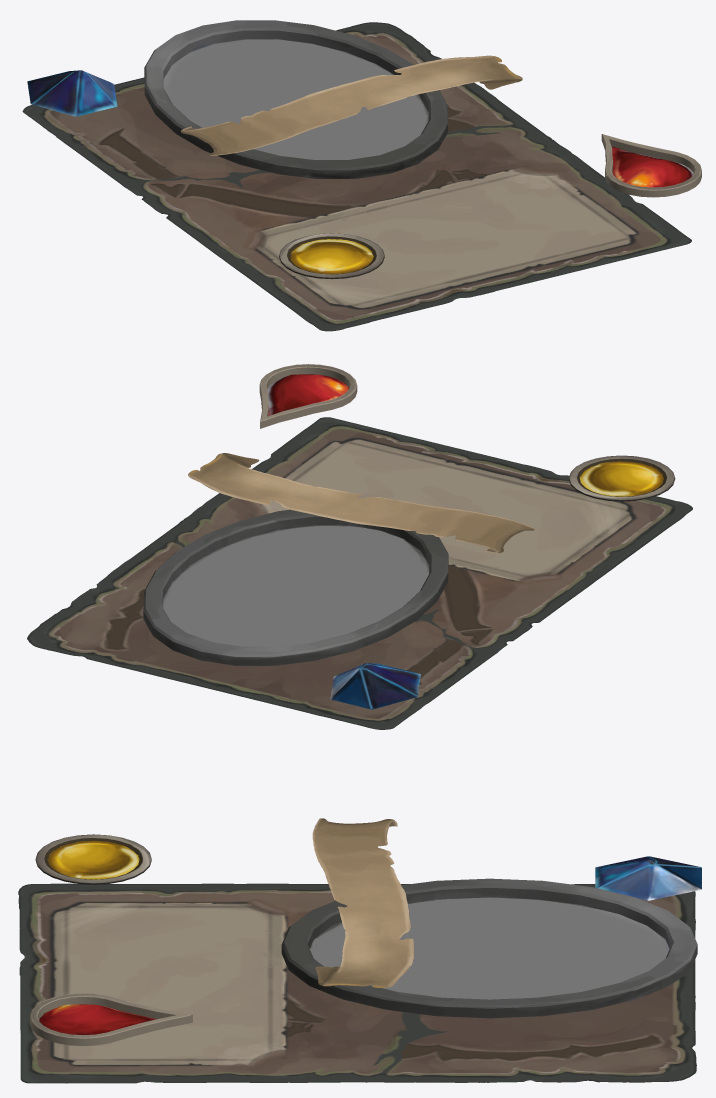
The model's file is card fbx.fbx.
The picture shows the model from 3 angles, top to bottom: view 1: azimuth 30°, elevation 25°; view 2: azimuth 150°, elevation 25°; view 3: azimuth 270°, elevation 25°; orthographic projection. The views are drawn at different scales.
Parts seen in each view (by area): view 1: polySurface4, polySurface1, polySurface5, polySurface3, polySurface2, polySurface6; view 2: polySurface4, polySurface1, polySurface5, polySurface3, polySurface2, polySurface6; view 3: polySurface4, polySurface1, polySurface5, polySurface3, polySurface2, polySurface6.
Part boxes in pixels (x1,y1,x2,y2): polySurface4: [22, 22, 691, 331]; polySurface1: [144, 20, 447, 178]; polySurface5: [181, 55, 522, 155]; polySurface3: [601, 134, 701, 197]; polySurface2: [279, 233, 384, 279]; polySurface6: [27, 70, 117, 116]; polySurface4: [27, 417, 692, 729]; polySurface1: [143, 509, 448, 665]; polySurface5: [188, 453, 535, 553]; polySurface3: [259, 364, 357, 428]; polySurface2: [569, 455, 675, 501]; polySurface6: [330, 663, 420, 709]; polySurface4: [18, 883, 696, 1083]; polySurface1: [281, 878, 697, 1018]; polySurface5: [312, 818, 413, 987]; polySurface3: [30, 993, 192, 1046]; polySurface2: [35, 834, 151, 884]; polySurface6: [595, 856, 701, 900].
Size of the model in its own units: 4.74 by 0.6153 by 4.88.
